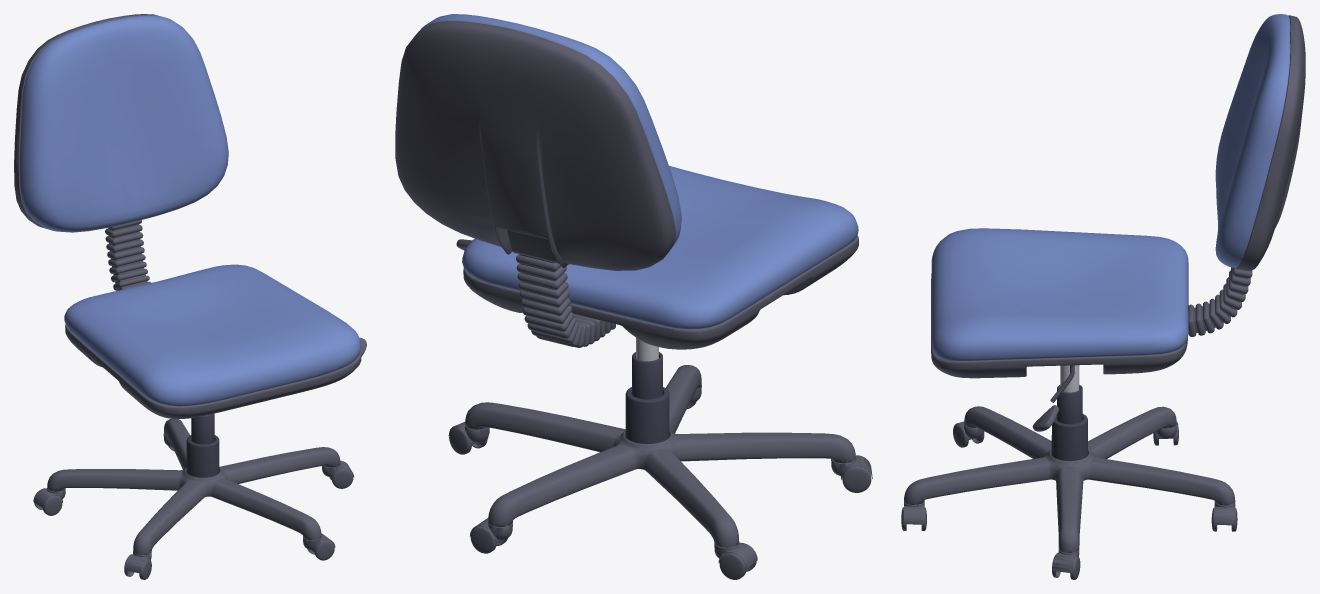
Rendered from chair.gltf.
3 views of the same model, side by side, from view 1: azimuth 30°, elevation 25°; view 2: azimuth 150°, elevation 25°; view 3: azimuth 270°, elevation 25° (orthographic). The views are drawn at different scales.
Visible parts, largest first — view 1: chair; view 2: chair; view 3: chair.
Boxes of the visible parts, x1,y1,x2,y2 form: chair: (14,14,366,579); chair: (395,14,872,579); chair: (901,14,1305,579).
Size of the model in its own units: 0.6693 by 0.98 by 0.7662.
